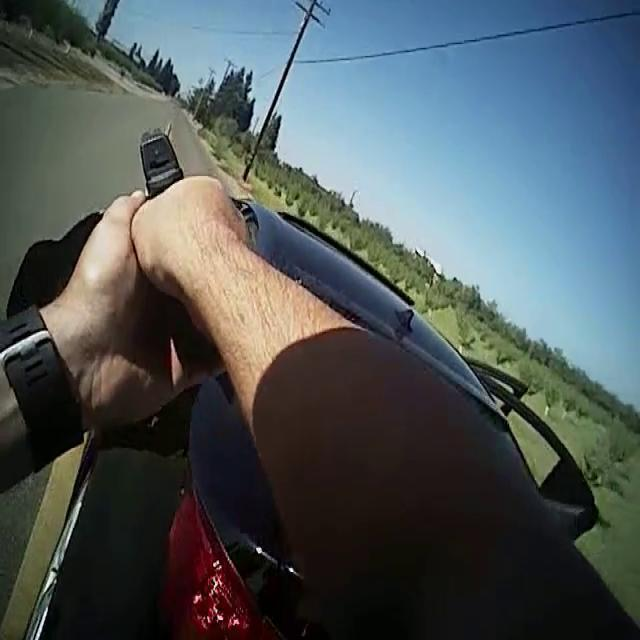gun: (127, 107, 245, 396)
